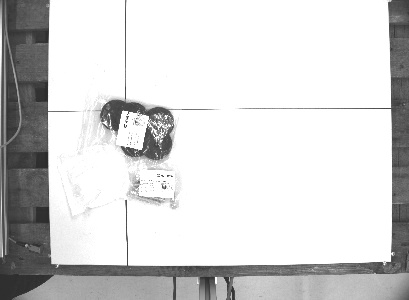t1: (77, 84, 185, 164)
t2: (118, 158, 205, 220)
t3: (52, 146, 128, 218)
